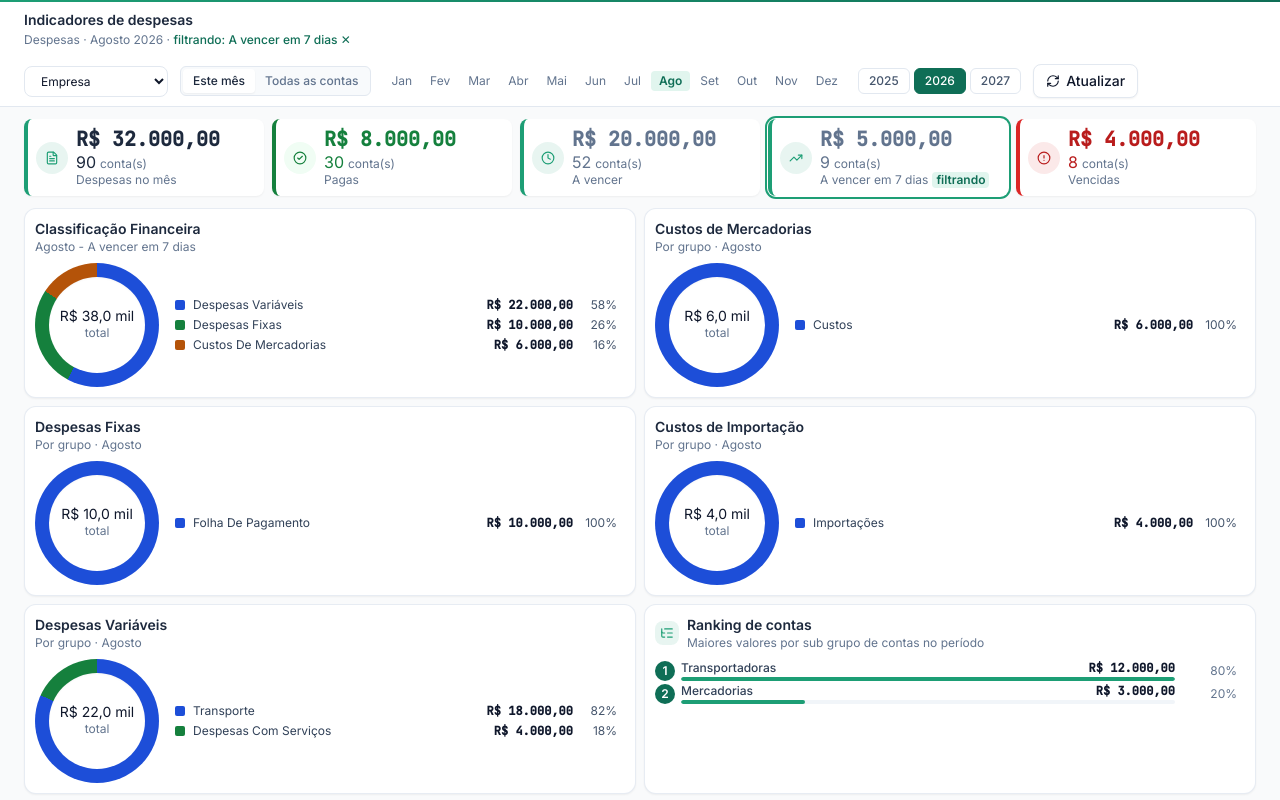
Test case: DashboardFinanceiro › o ✕ do cabeçalho limpa o filtro inicial "A vencer em 7 dias"
What coordinates should you click on to do the following:
click the button "filtrando: A vencer em 7 dias ✕"
I would click on:
 (262, 40)
Its box is [173, 32, 351, 48].
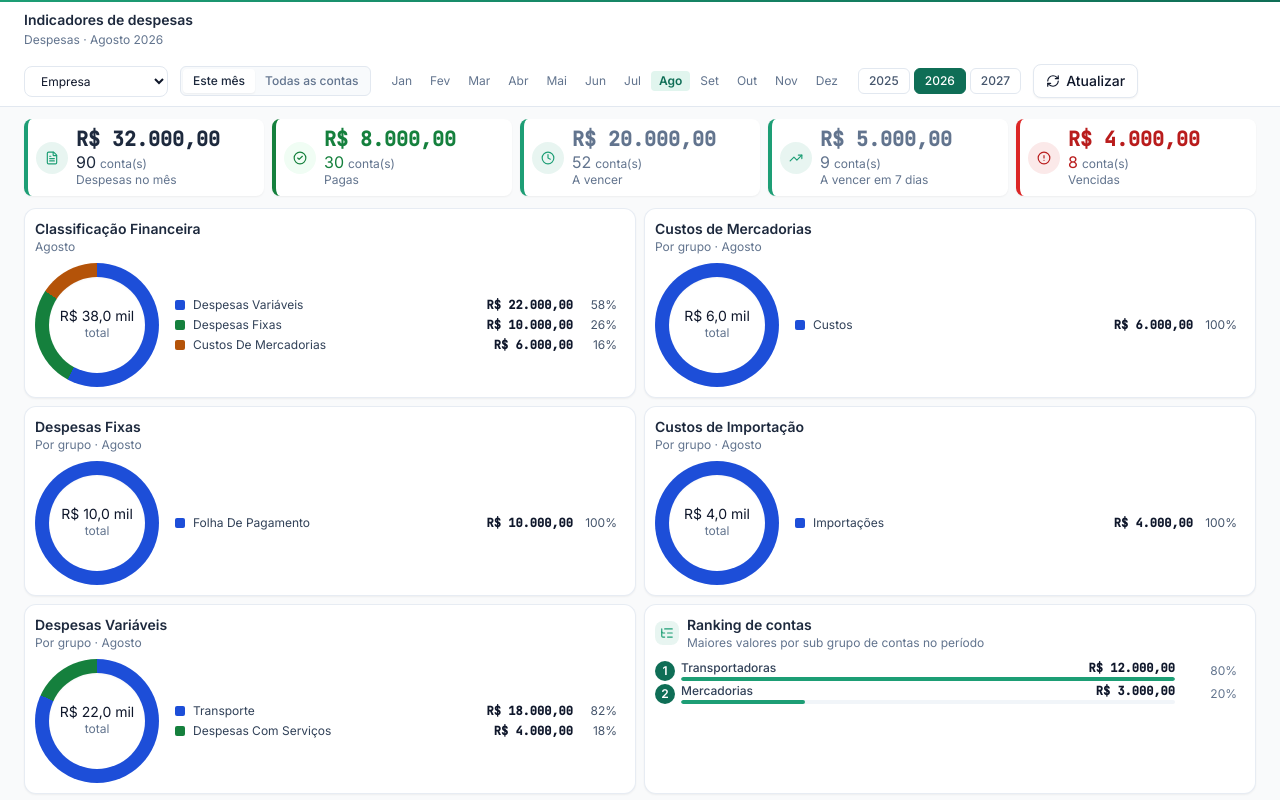
Check: the button "filtrando:" is gone
